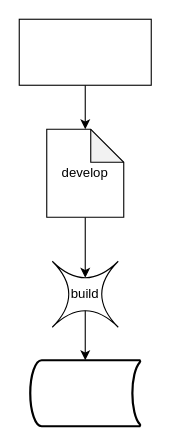
Image size: 171x447. Some labels were removed from this diagram. The centre of each missing label's shape, as x and y in pixels:
"plan" goes at (84,51).
"test" goes at (85,393).
